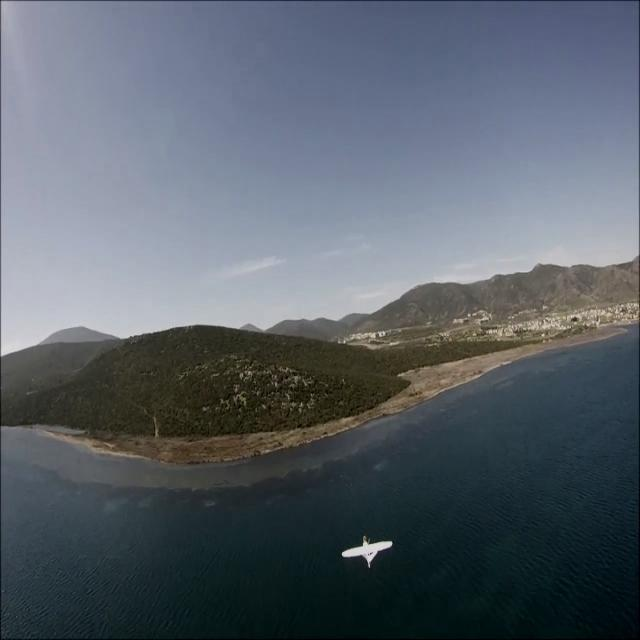iha: (338, 526, 396, 574)
